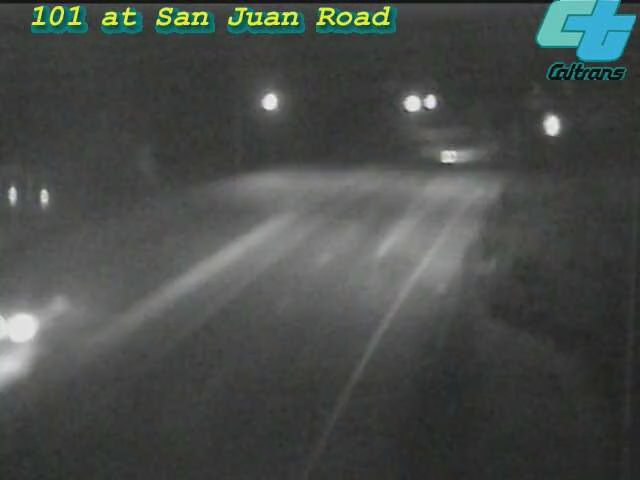vehicle: (1, 267, 66, 377), (528, 99, 578, 149), (423, 132, 473, 182)
